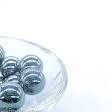ironball: (18, 68, 49, 96), (0, 82, 28, 111), (18, 55, 44, 73), (1, 56, 22, 76), (2, 73, 20, 84), (0, 40, 7, 63)
